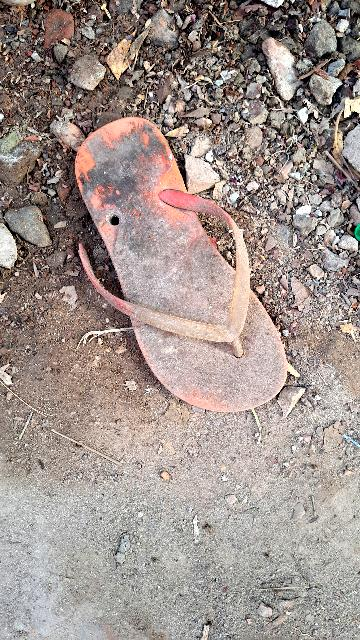sandal: (48, 85, 314, 433)
